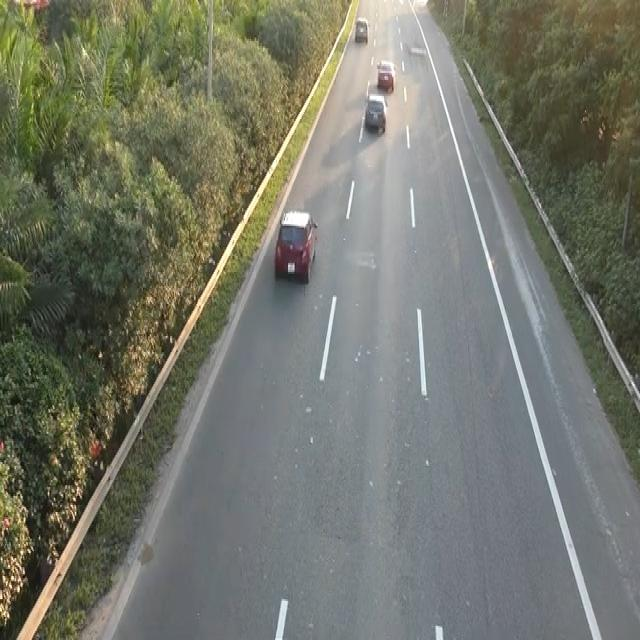bus: (273, 204, 319, 284), (364, 92, 387, 134)
